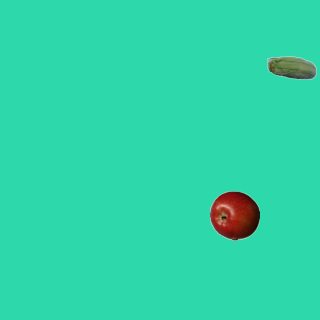Apple Braeburn: (209, 190, 259, 240)
Corn Husk: (266, 44, 316, 94)
